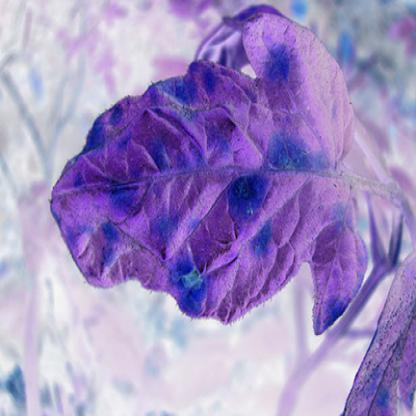Tomato mold leaf: (43, 11, 376, 341)
